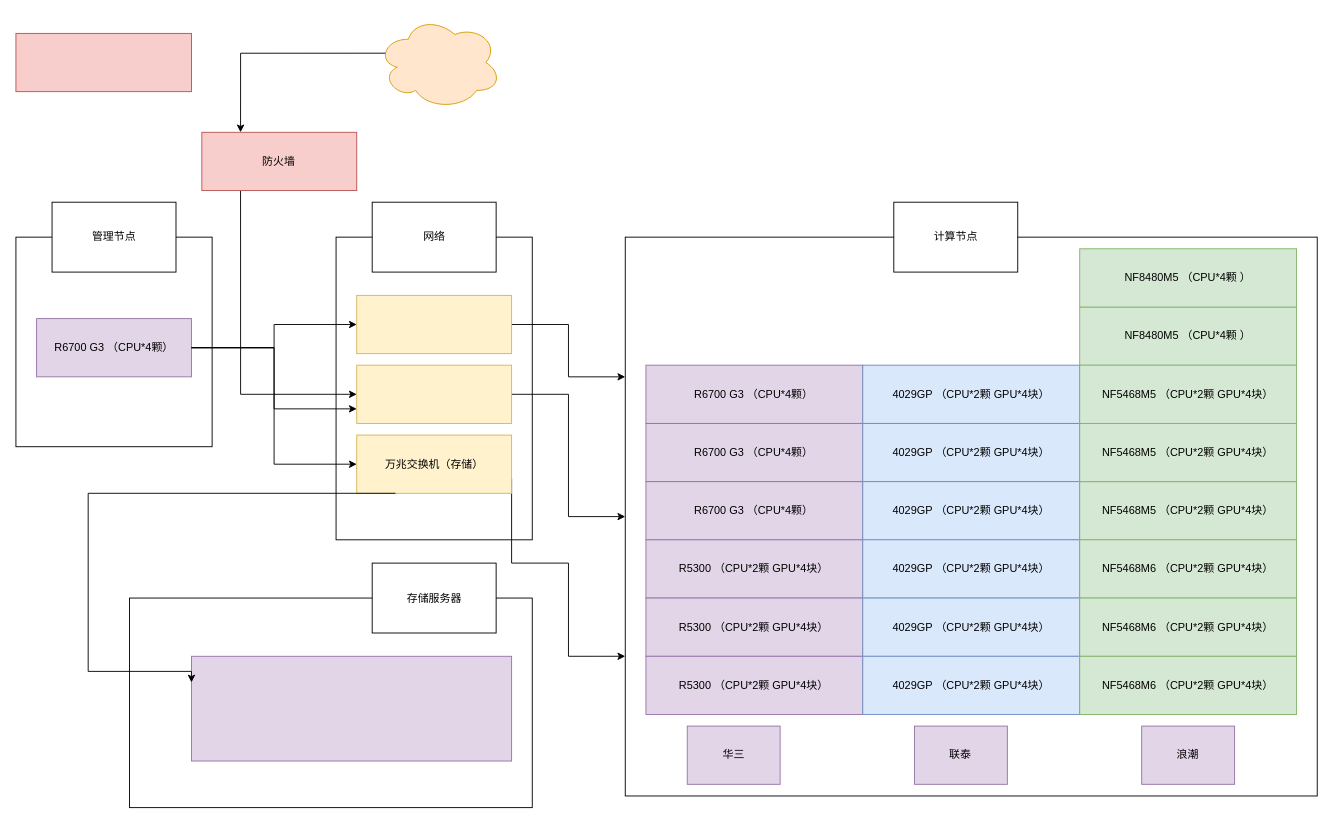
Image size: 1333x824. Some labels were removed from this diagram. Each missing label, with the centre of its shape:
"IPMI" belongs at point (434, 324).
"千兆交换机（业务网）" belongs at point (434, 393).
"待购入：（核心参数容量、带宽、硬盘数量） 按照2T/位老师 约200T 按照0.5T/位学生 约200T" belongs at point (351, 708).
"校园网" belongs at point (438, 62).
"该集群目前包含： 54颗CPU，共计（1152核） 58块GPU" belongs at point (103, 62).
